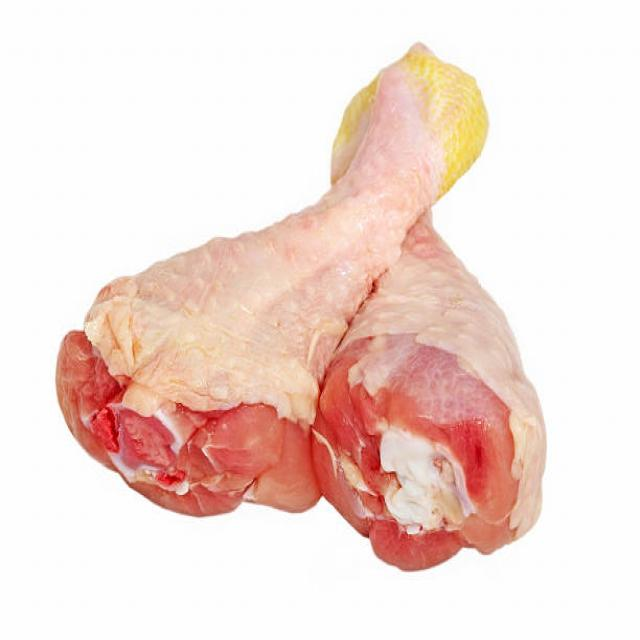chicken wing: (60, 56, 342, 505), (316, 246, 548, 574)
